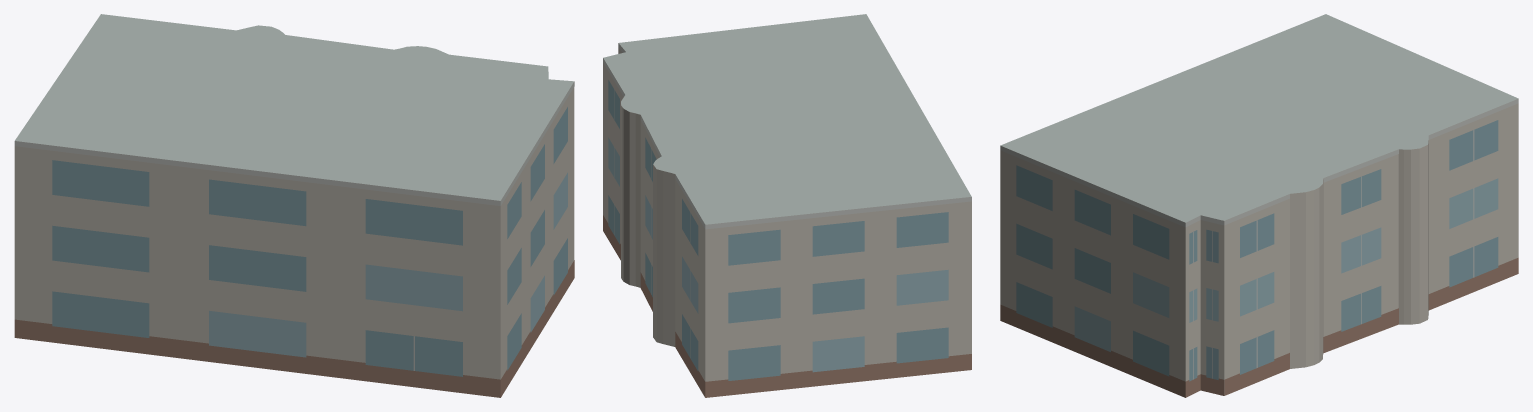
Rendered from survey-upis-32600216.glb.
3 views of the same model, side by side, from view 1: azimuth 30°, elevation 25°; view 2: azimuth 150°, elevation 25°; view 3: azimuth 270°, elevation 25° (orthographic). The views are drawn at different scales.
Parts seen in each view (by area): view 1: survey-upis-32600216.tmp; view 2: survey-upis-32600216.tmp; view 3: survey-upis-32600216.tmp.
Boxes of the visible parts, x1,y1,x2,y2 form: survey-upis-32600216.tmp: (14, 14, 574, 397); survey-upis-32600216.tmp: (603, 14, 971, 397); survey-upis-32600216.tmp: (1000, 14, 1518, 397).
Size of the model in its own units: 23.39 by 9.15 by 24.55.
